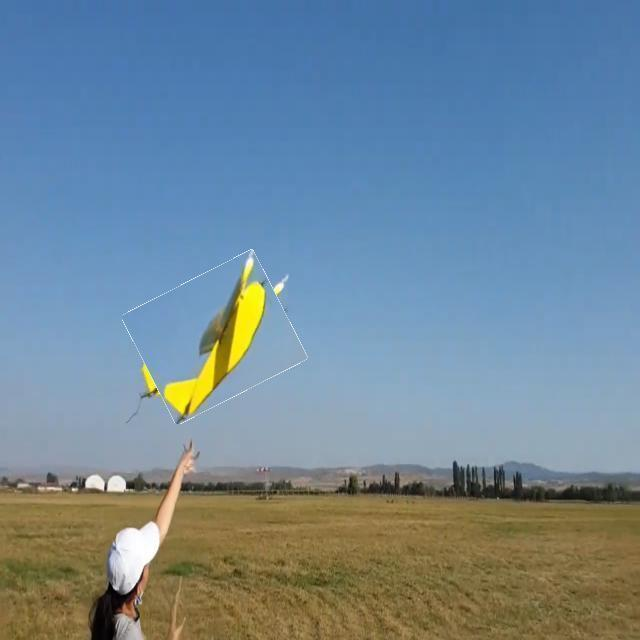iha: (133, 254, 300, 415)
